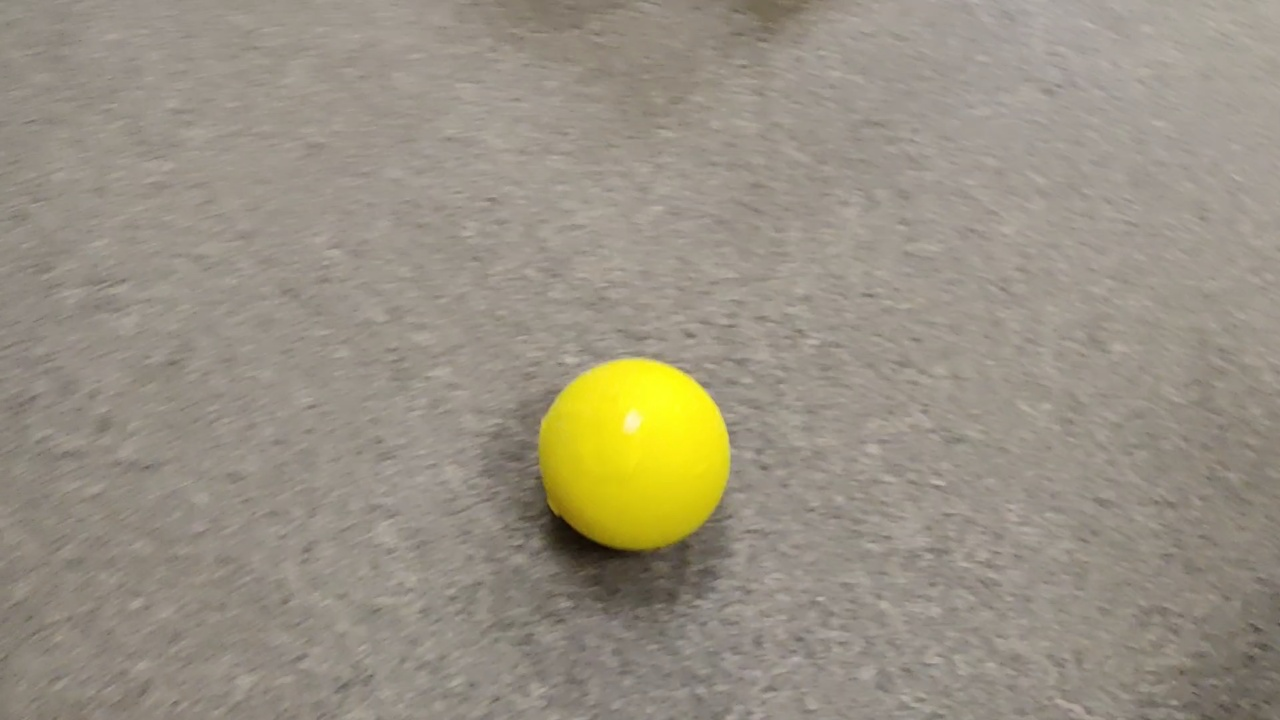Ball: (538, 357, 729, 554)
